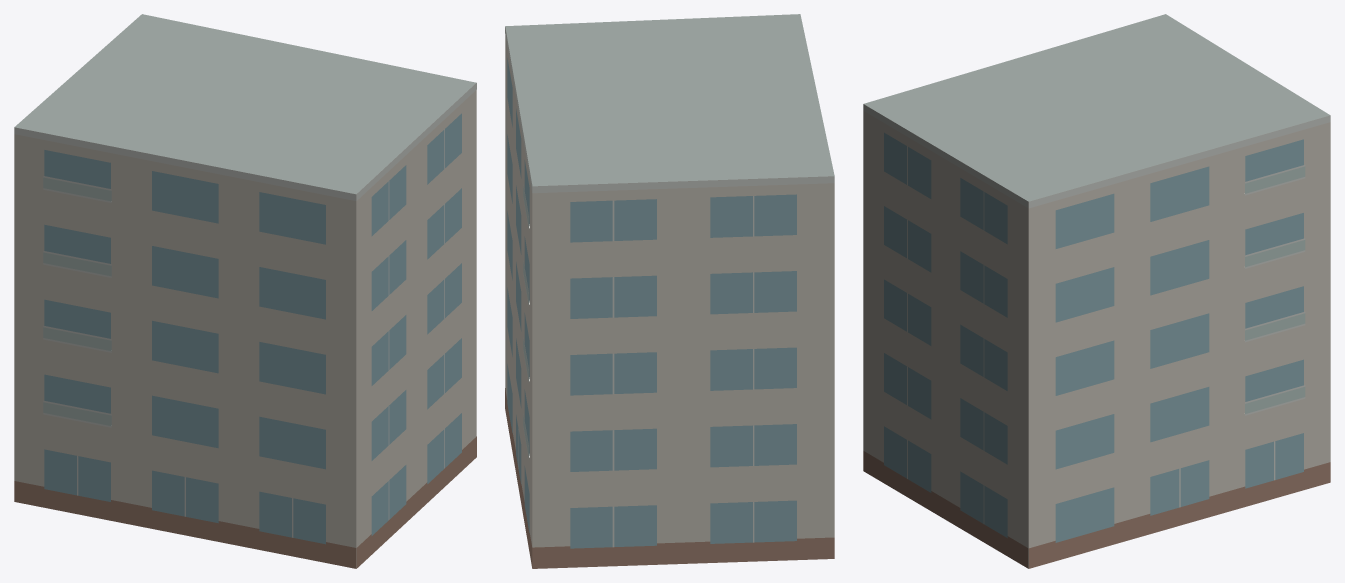
The model's file is survey-upis-32854374.glb.
3 renders of one model, left to right at view 1: azimuth 30°, elevation 25°; view 2: azimuth 150°, elevation 25°; view 3: azimuth 270°, elevation 25°, orthographic. The views are drawn at different scales.
Parts seen in each view (by area): view 1: survey-upis-32854374.tmp; view 2: survey-upis-32854374.tmp; view 3: survey-upis-32854374.tmp.
Part boxes in pixels (x1=…): survey-upis-32854374.tmp: x1=14, y1=14, x2=476, y2=568; survey-upis-32854374.tmp: x1=505, y1=14, x2=834, y2=568; survey-upis-32854374.tmp: x1=863, y1=14, x2=1330, y2=568.
Size of the model in its own units: 14.6 by 13.3 by 15.35.
